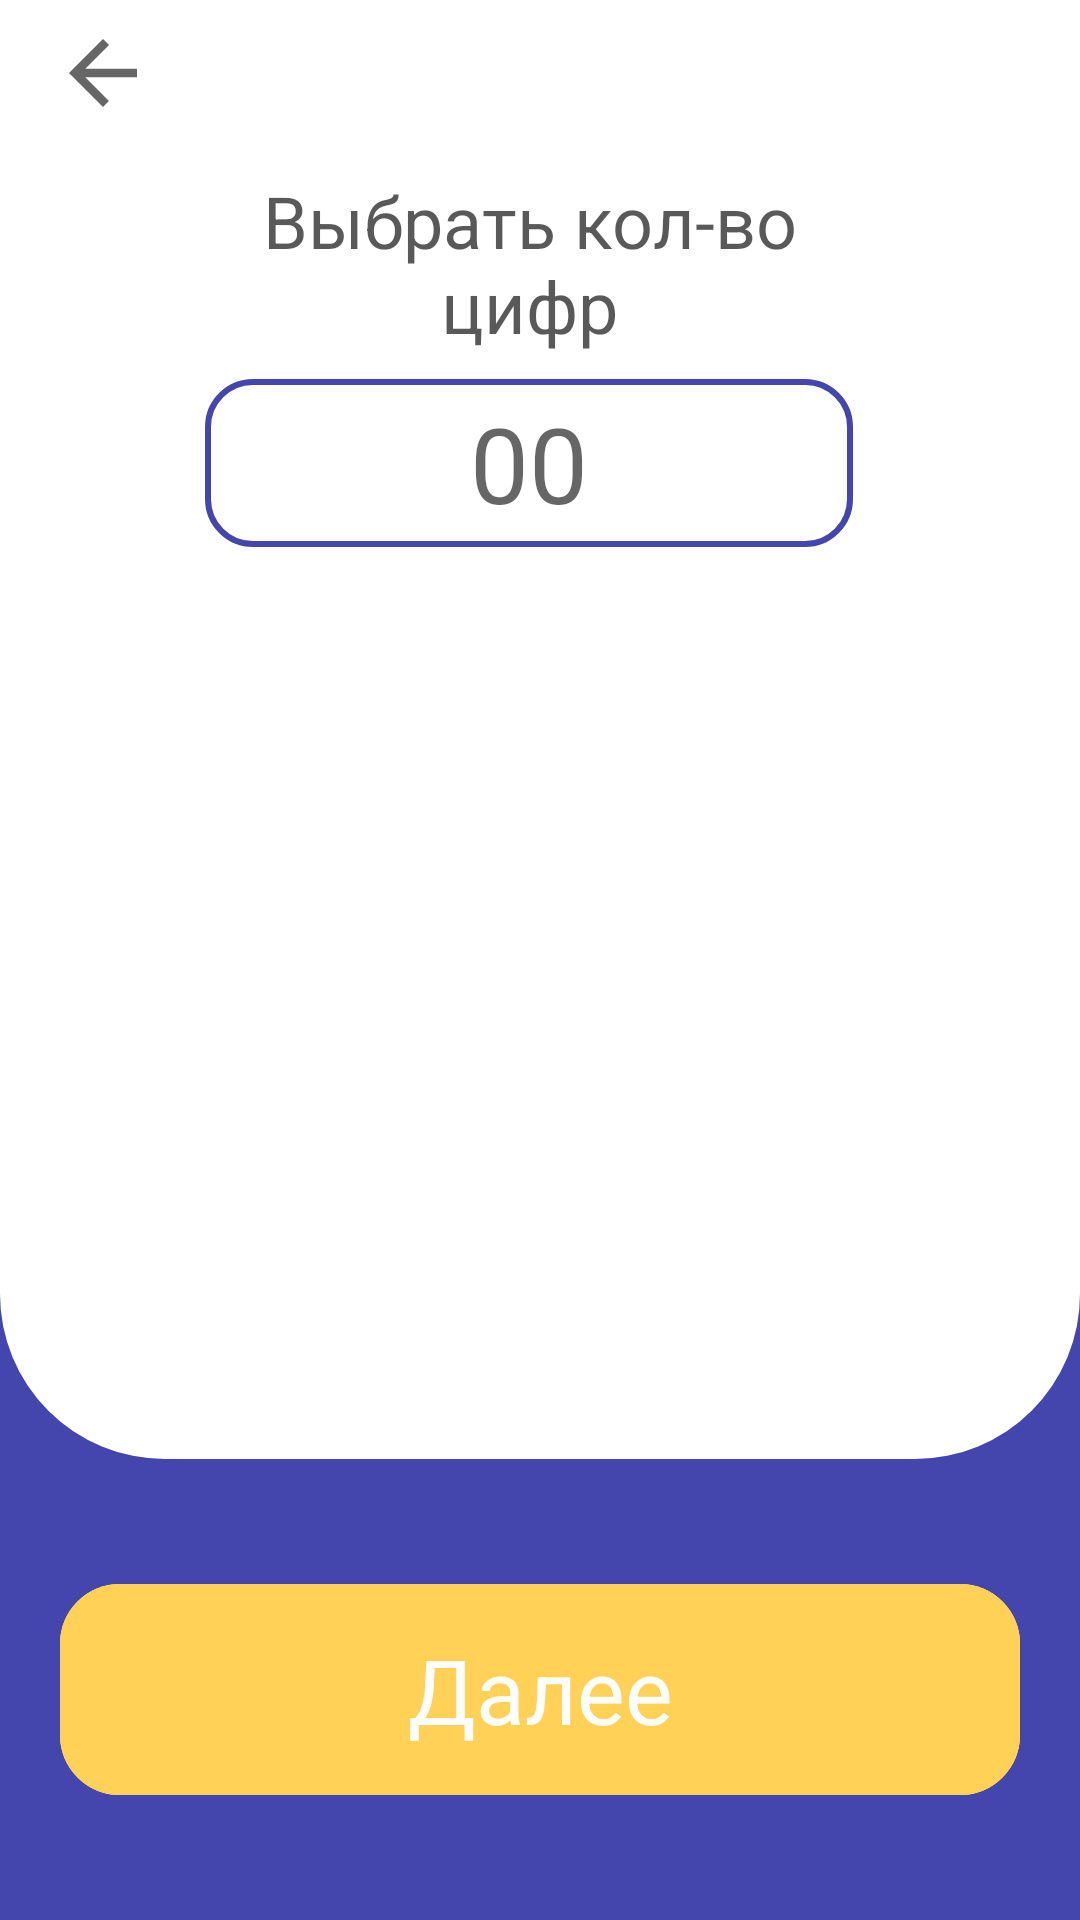

Screen size 1080 x 1920. Icon name, then its box in pixels as (x1, y1, x2, y2):
arrow back: (69, 39, 137, 107)
